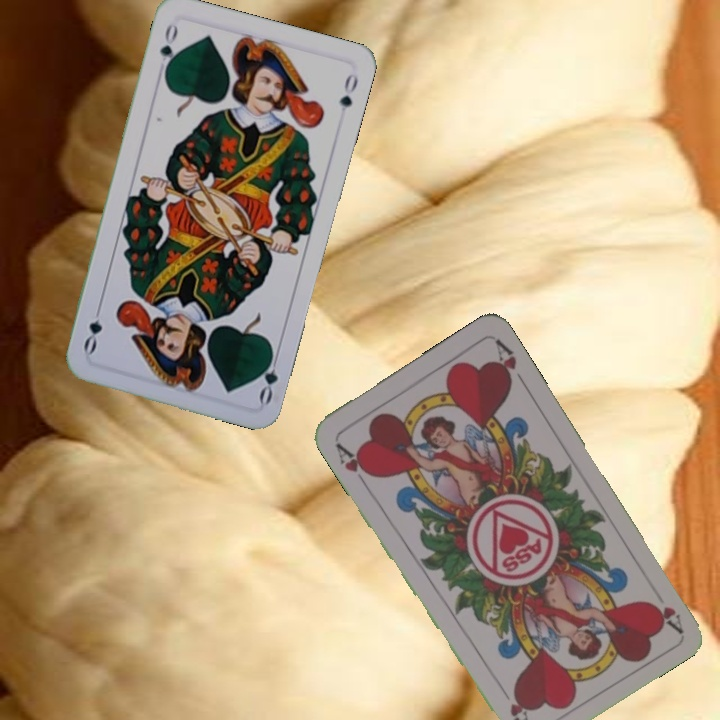GO: (255, 346, 282, 406), (155, 20, 181, 78)
HA: (331, 439, 377, 489), (645, 598, 686, 634)
